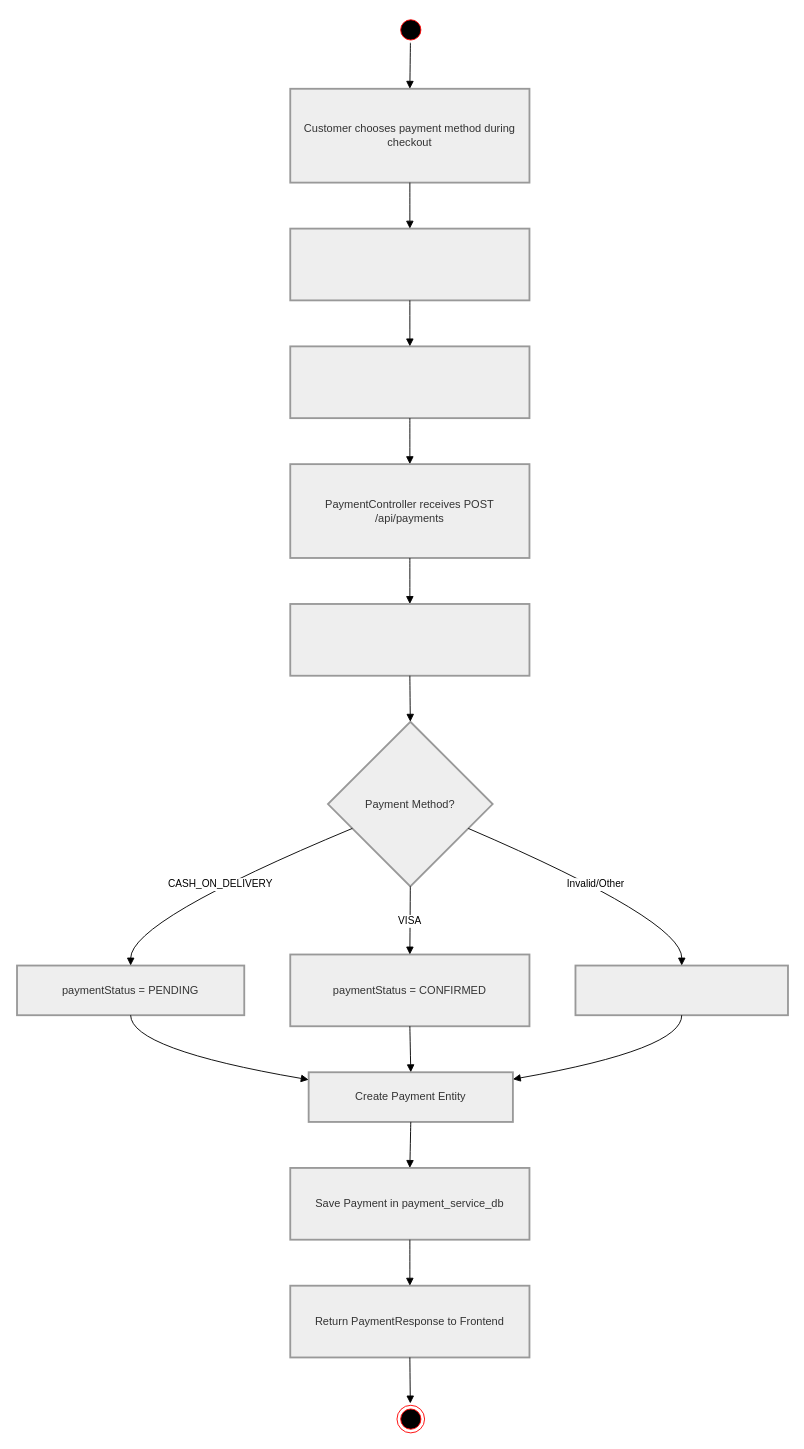
Image size: 804x1449. Some labels were removed from this diagram. The shapes that lost their labels are listed below. From the top down, each one's centre as x and y in pixels, then its label:
At point (409, 264): "Frontend sends CreatePaymentRequest".
At point (409, 382): "API Gateway routes request to Payment Service".
At point (409, 639): "PaymentService checks payment method".
At point (681, 990): "paymentStatus = FAILED".
